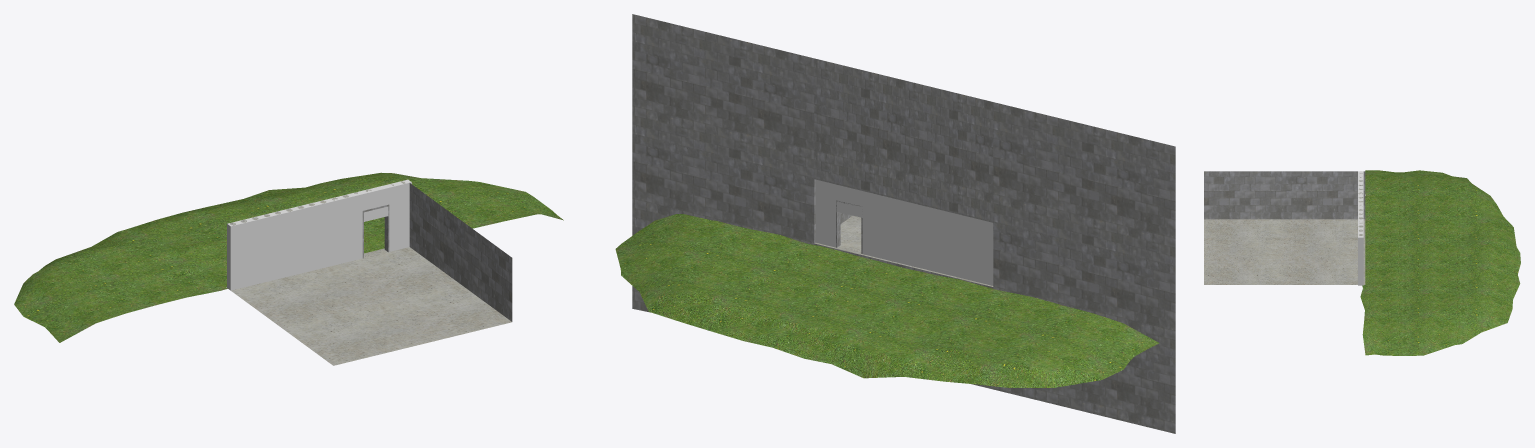
Rendered from main.glb.
3 views of the same model, side by side, from view 1: azimuth 30°, elevation 25°; view 2: azimuth 150°, elevation 25°; view 3: azimuth 270°, elevation 25° (orthographic). The views are drawn at different scales.
Parts seen in each view (by area): view 1: Plane, Outside, BarsCol; view 2: Plane, Outside, BarsCol; view 3: Outside, Plane, BarsCol.
Part boxes in pixels (bbox=[...]): Plane: bbox=[226, 179, 512, 365]; Outside: bbox=[14, 172, 563, 342]; BarsCol: bbox=[227, 179, 411, 290]; Plane: bbox=[632, 14, 1175, 433]; Outside: bbox=[615, 214, 1159, 387]; BarsCol: bbox=[815, 179, 993, 285]; Outside: bbox=[1360, 170, 1520, 355]; Plane: bbox=[1204, 171, 1365, 284]; BarsCol: bbox=[1358, 171, 1363, 285].
Size of the model in its own units: 31.18 by 16.17 by 21.01.
Materials: 4 (4 with a texture image).
